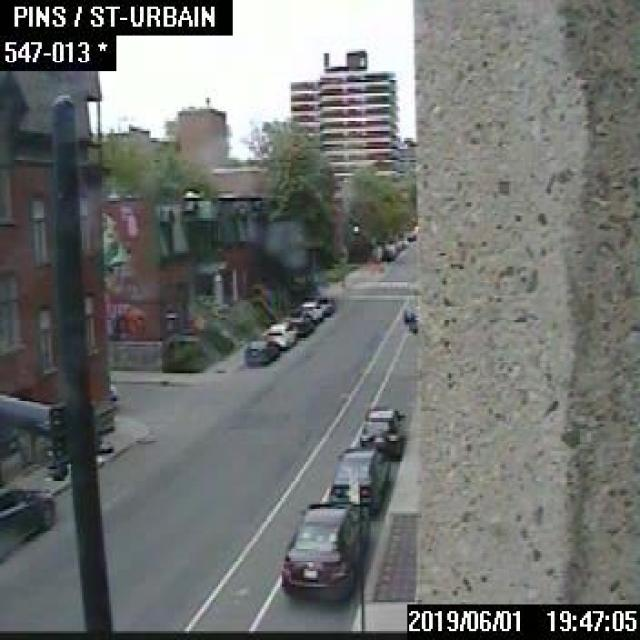vehicle: (280, 501, 368, 596), (329, 444, 390, 514), (0, 486, 56, 562), (358, 405, 404, 454), (243, 337, 277, 363), (261, 321, 295, 347), (286, 308, 312, 335), (403, 299, 417, 331), (300, 300, 322, 320), (316, 294, 335, 314), (106, 383, 118, 409)
